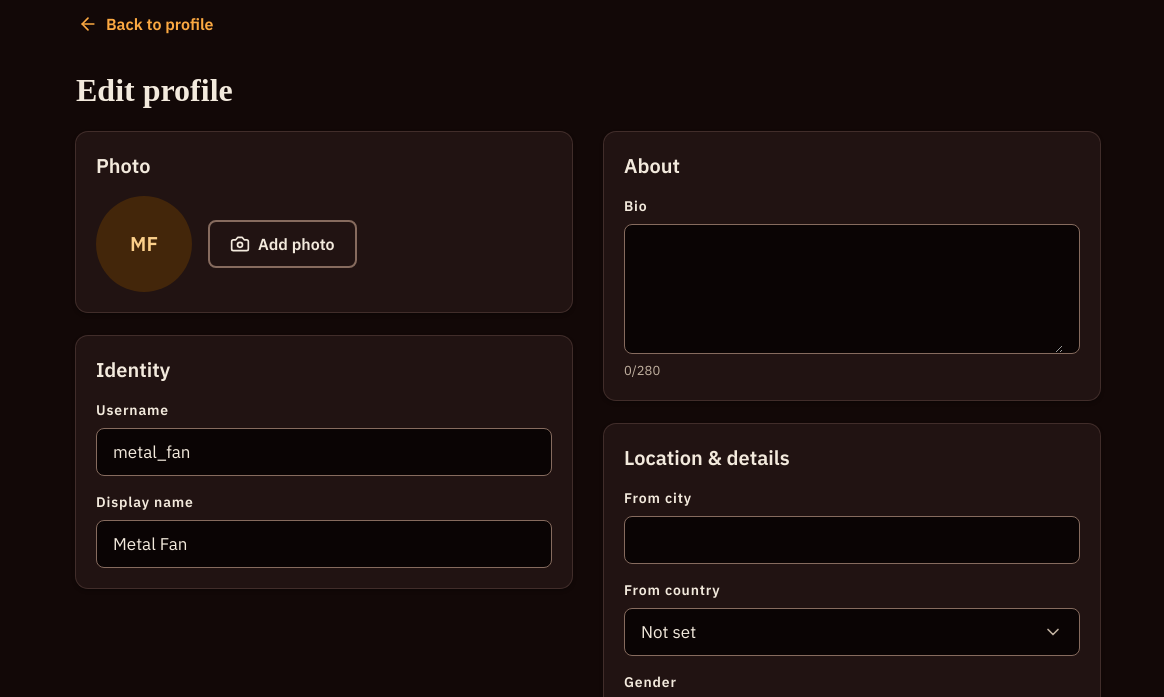
Test case: edit and save returns to /profile with saved values; unchanged disables Save
The image size is (1164, 697).
Replace the text in the field labelled "Display name" with "Renamed": (324, 544) [113, 531, 535, 557]
(page scrolled)
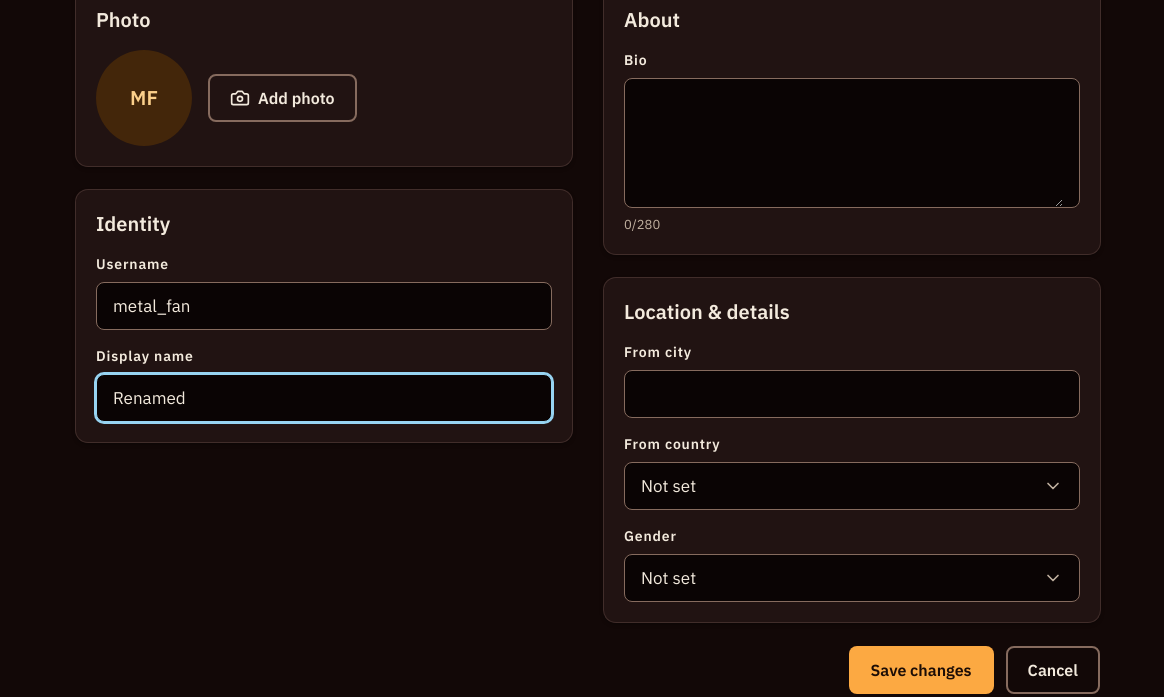
Result: the button "Save changes" is enabled
Click the button "Save changes": click(921, 670) [849, 646, 994, 694]
(page scrolled)
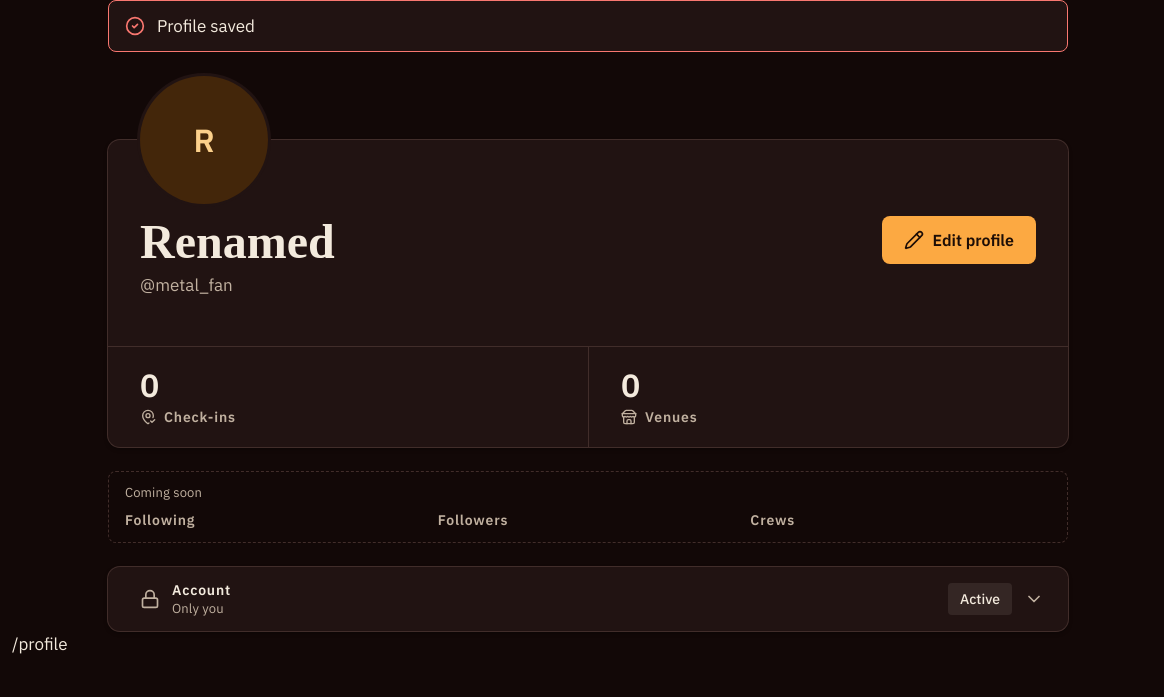
Result: the text "Profile saved" is shown at [157, 13, 255, 39]
Result: the text with test id "loc" reads "/profile" at [12, 633, 68, 655]
Result: the heading "Renamed" is shown at [140, 215, 335, 268]
